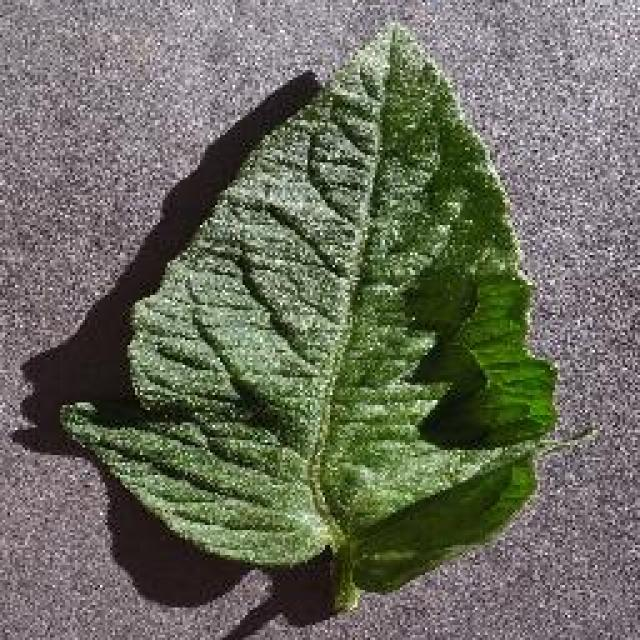Tomato_Healthy: (53, 13, 584, 590)
